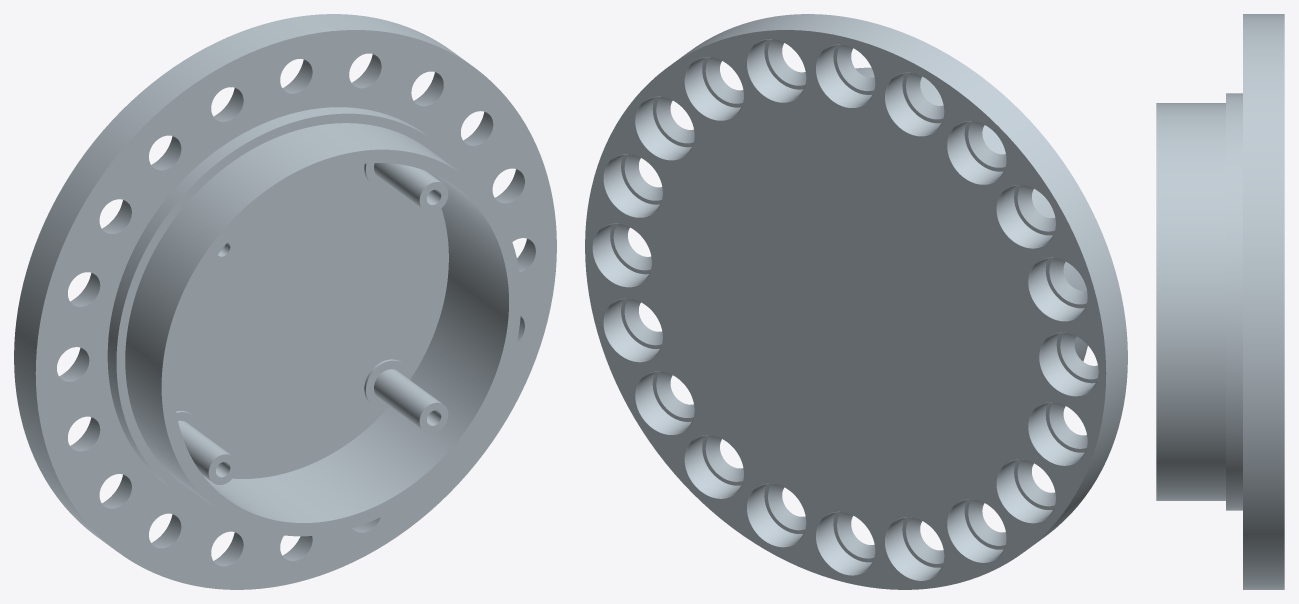
Rendered from Base_V3_Discs.glb.
3 renders of one model, left to right at view 1: azimuth 30°, elevation 25°; view 2: azimuth 150°, elevation 25°; view 3: azimuth 270°, elevation 25°, orthographic. The views are drawn at different scales.
Visible parts, largest first — view 1: Base_V3_Discs_0; view 2: Base_V3_Discs_0; view 3: Base_V3_Discs_0.
Part boxes in pixels (x1=…): Base_V3_Discs_0: x1=14, y1=14, x2=556, y2=589; Base_V3_Discs_0: x1=585, y1=14, x2=1127, y2=589; Base_V3_Discs_0: x1=1156, y1=14, x2=1284, y2=589.
Bounding box in the file's own units: 58 × 58 × 12.9.
